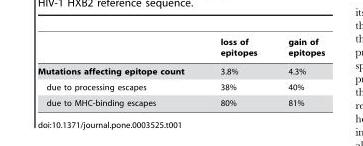table: (37, 37, 324, 107)
table column: (37, 37, 201, 107), (201, 37, 272, 107), (272, 37, 324, 107)
table column header: (37, 37, 324, 61)
table row: (37, 37, 324, 61), (37, 61, 324, 79), (37, 79, 324, 94), (37, 94, 324, 107)
